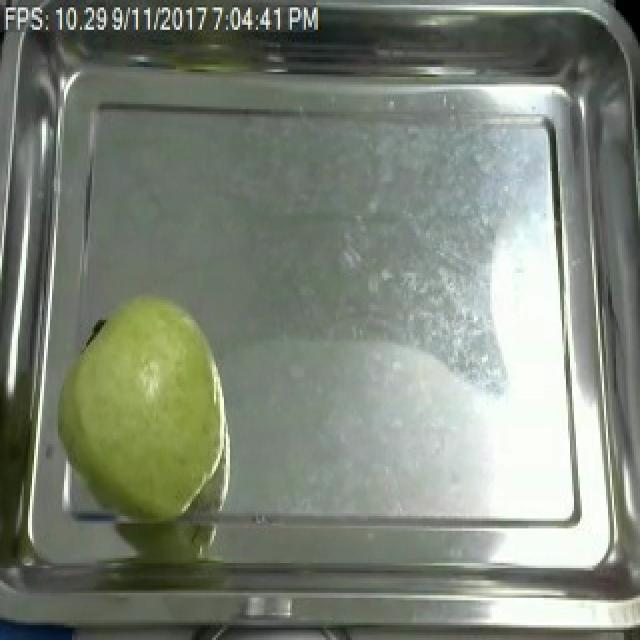Fruit: (36, 286, 240, 534)
